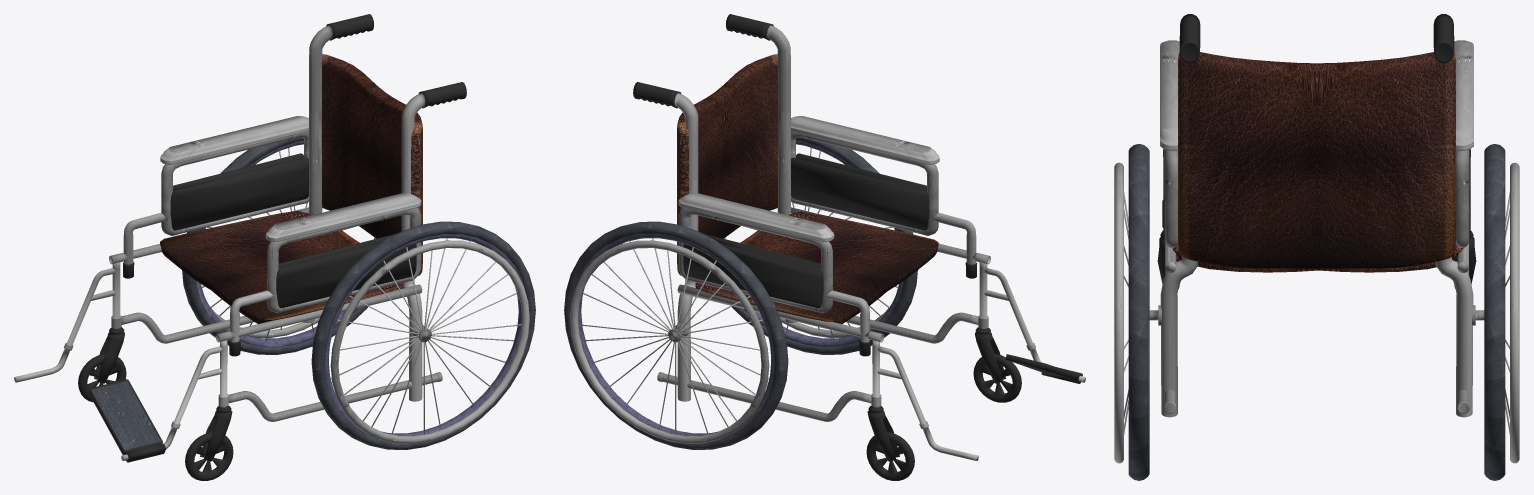
The model's file is Silla de Ruedas.fbx.
The picture shows the model from 3 angles, left to right: view 1: azimuth 30°, elevation 25°; view 2: azimuth 150°, elevation 25°; view 3: azimuth 270°, elevation 25°; orthographic projection. The views are drawn at different scales.
Visible parts, largest first — view 1: silla de ruedas.001; view 2: silla de ruedas.001; view 3: silla de ruedas.001.
Boxes of the visible parts, bbox=[...] form: silla de ruedas.001: bbox=[14, 14, 535, 480]; silla de ruedas.001: bbox=[564, 14, 1085, 480]; silla de ruedas.001: bbox=[1114, 14, 1519, 480].
Size of the model in its own units: 246 by 197 by 157.
